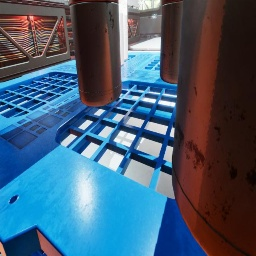0: (119, 0, 125, 66), (123, 0, 128, 60)
NitrogenTank ,: (172, 0, 256, 256), (68, 0, 122, 107), (160, 0, 183, 84)
